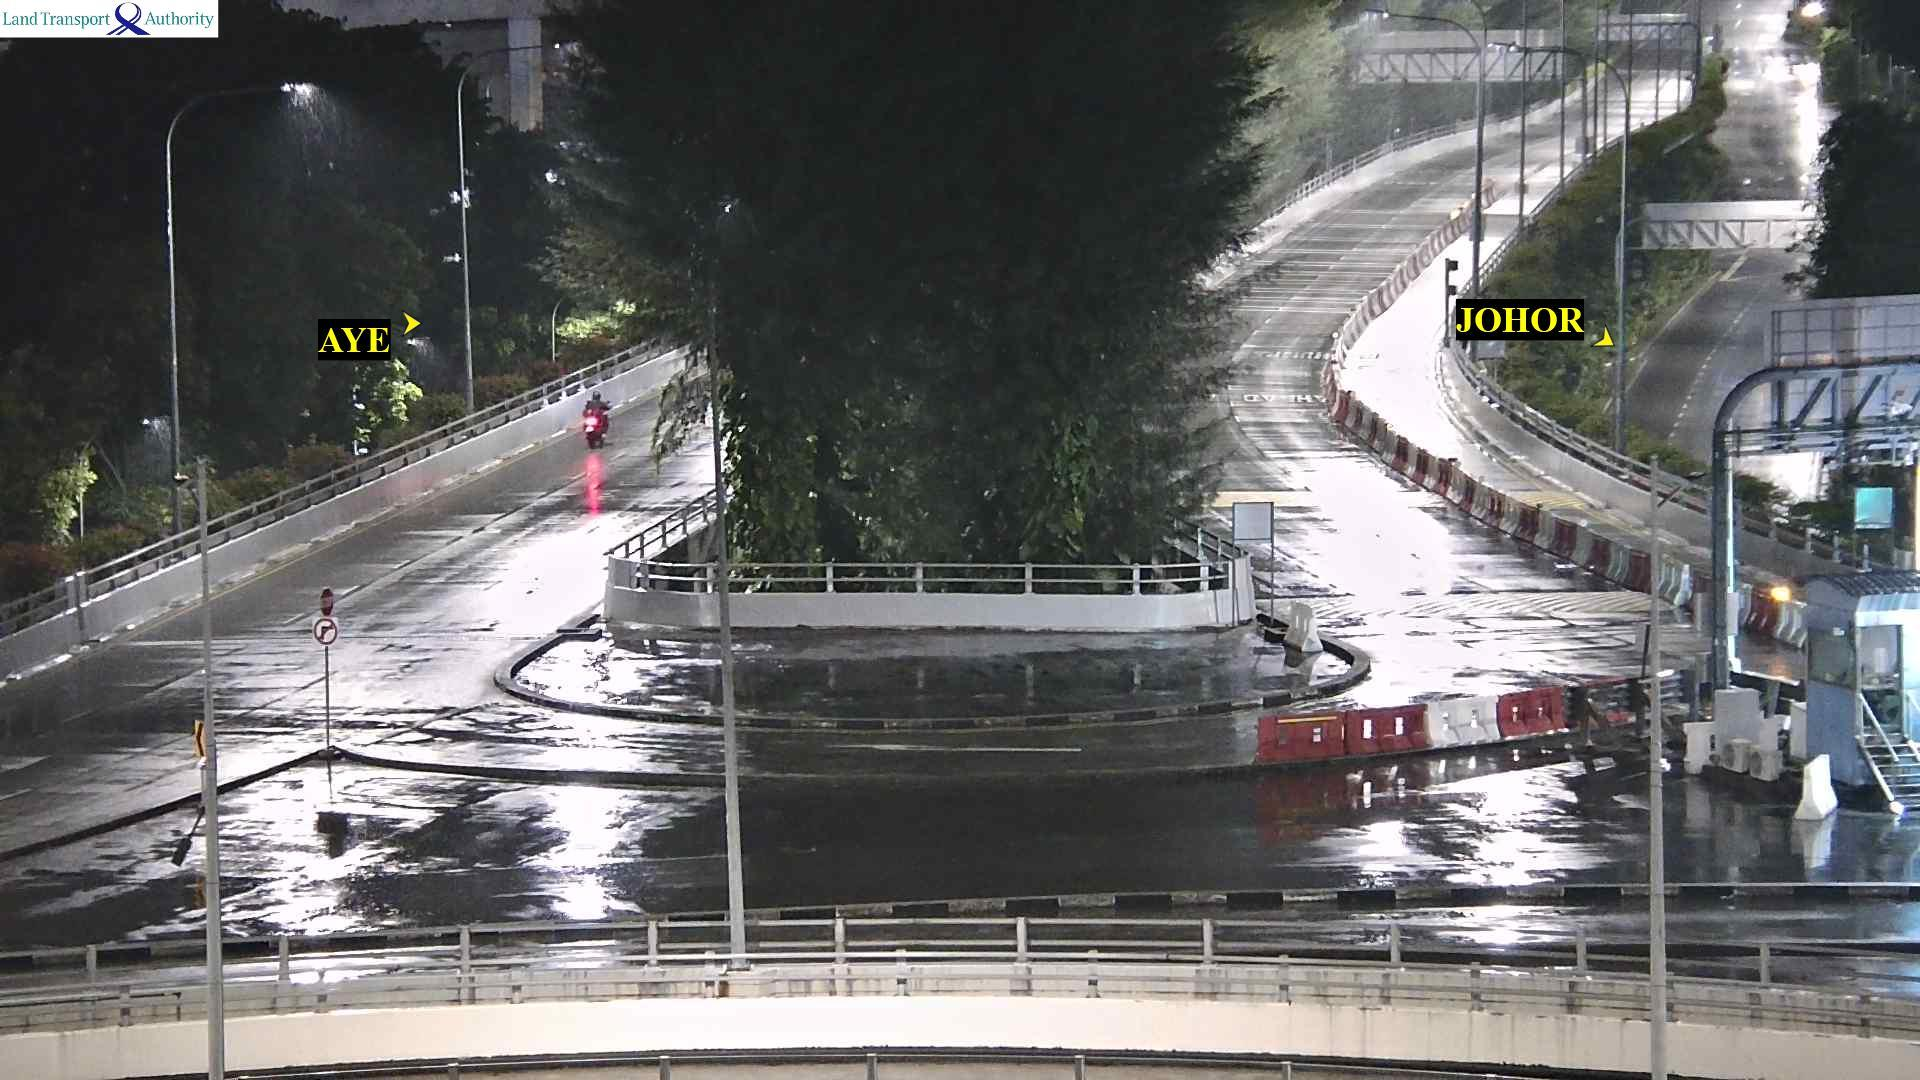vehicle-secondlink-singapore: (584, 386, 610, 440)
